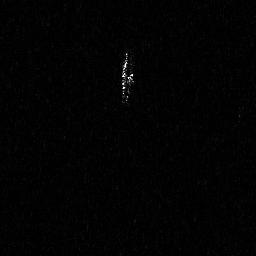ship: (118, 47, 136, 106)
